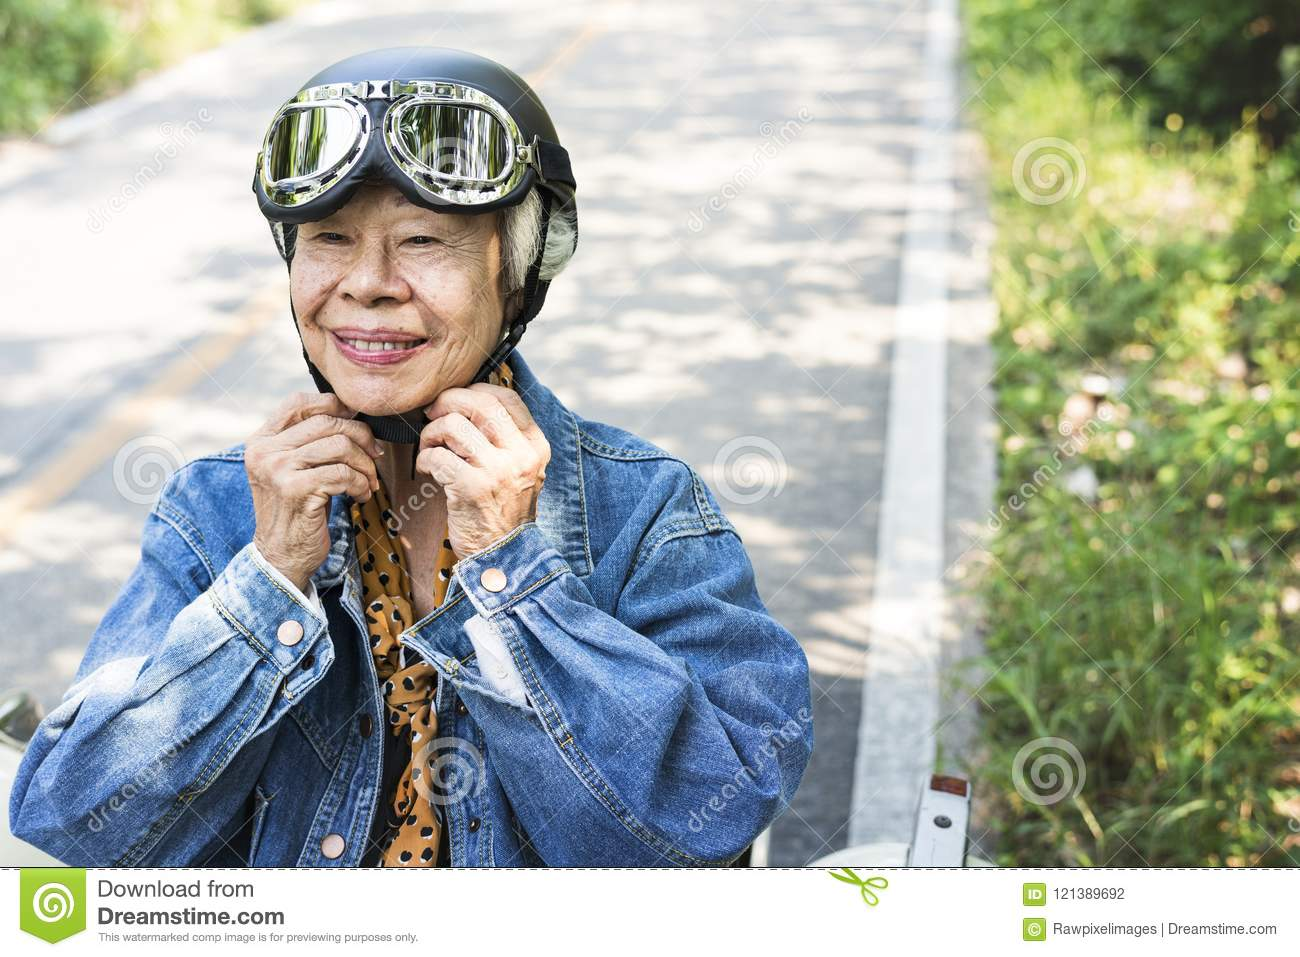helmet: (267, 52, 602, 277)
